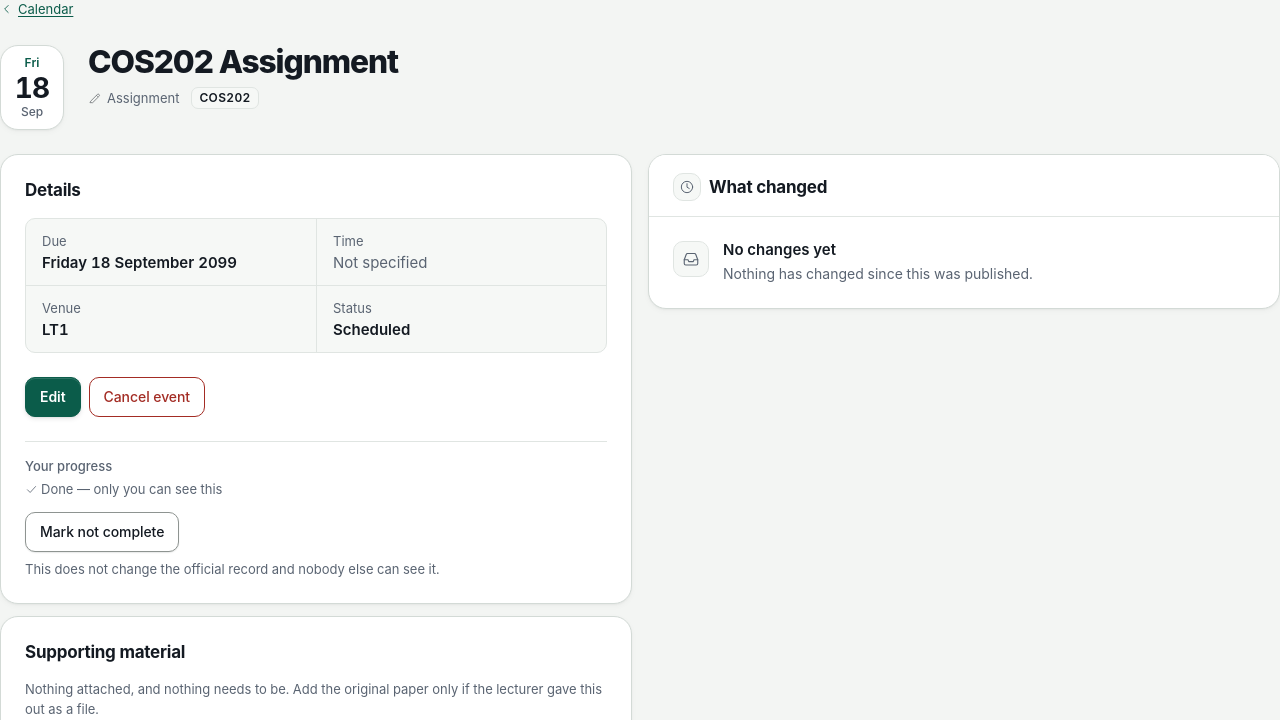
Test case: personal completion › offers a rep the cancel control behind a consequence dialog
Step 1. Click the button "Cancel event" → (147, 397), box [88,377,205,417]
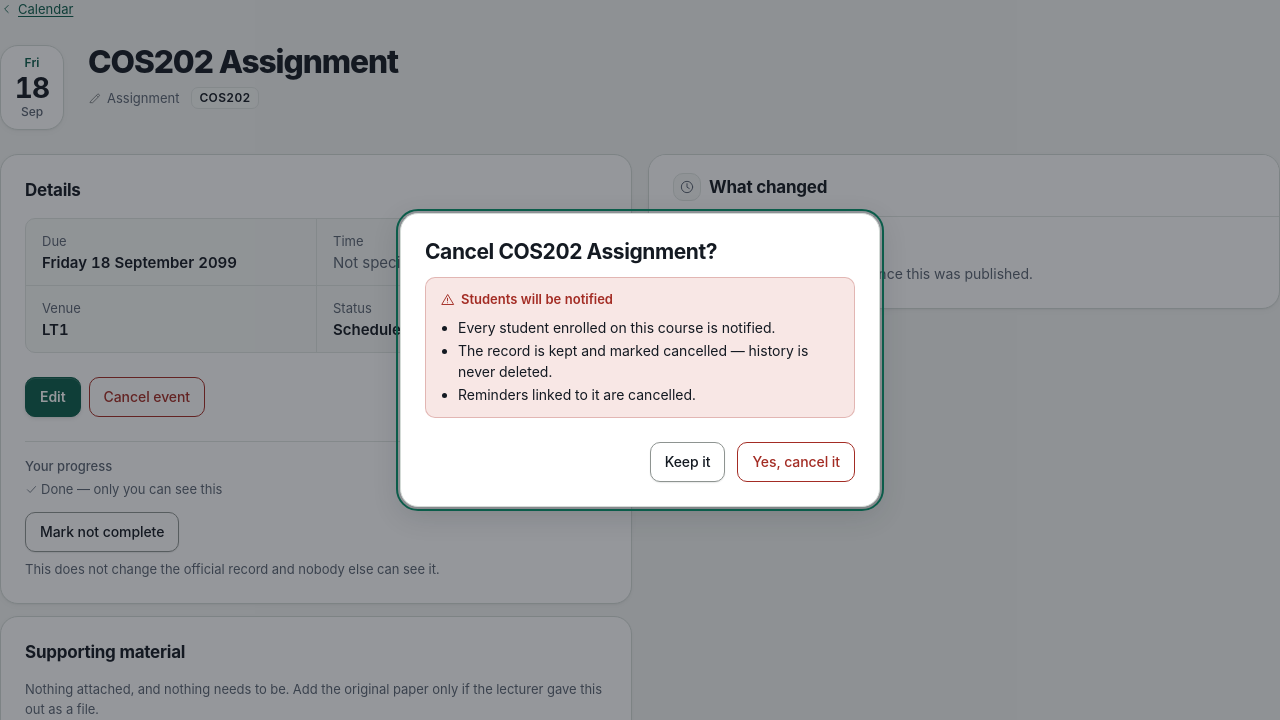
Expected: the dialog shows "history is never deleted", [458,342,808,380]
